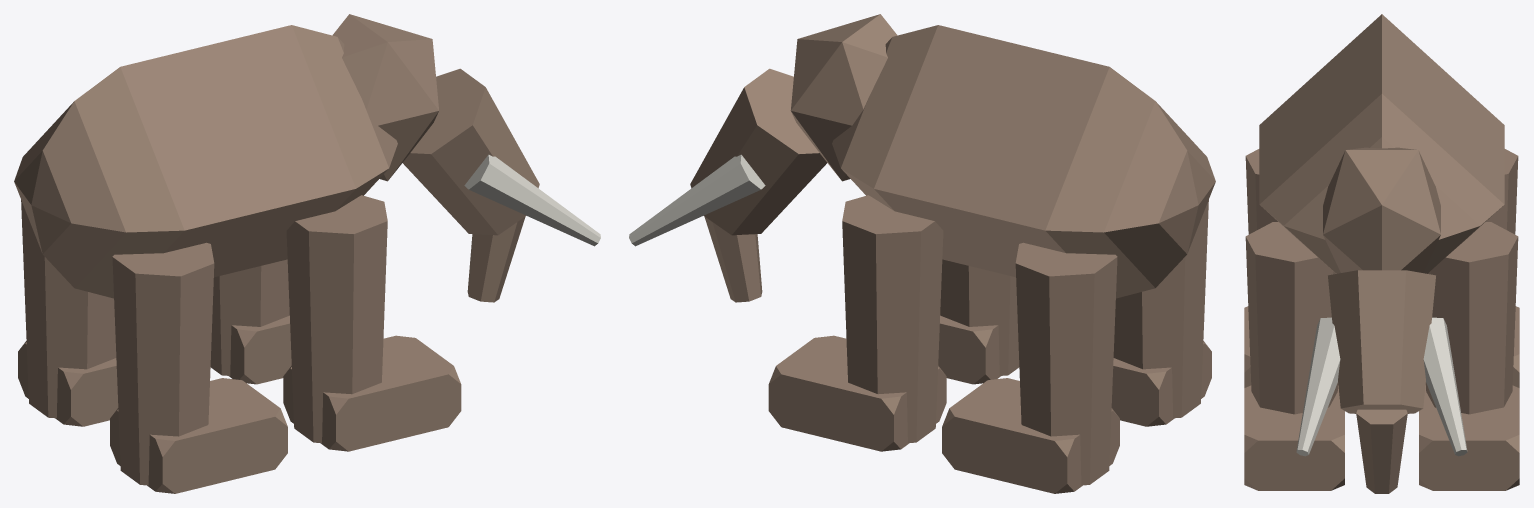
3 views of the same model, side by side, from view 1: azimuth 30°, elevation 25°; view 2: azimuth 150°, elevation 25°; view 3: azimuth 270°, elevation 25° (orthographic). The views are drawn at different scales.
Parts seen in each view (by area): view 1: part0, part12, part8, part2, part9, part13, part10, part1, part6, part5, part11, part7 (+1 smaller); view 2: part0, part10, part6, part2, part7, part11, part12, part1, part8, part4, part13, part9 (+1 smaller); view 3: part0, part2, part1, part6, part8, part7, part9, part3, part4, part5, part10, part12 (+2 smaller).
Boxes of the visible parts, x1,y1,x2,y2 form: part0: (14,25,397,298); part12: (112,242,214,485); part8: (286,195,387,442); part2: (403,68,539,235); part9: (283,335,461,451); part13: (110,378,287,493); part10: (21,200,116,418); part1: (332,14,439,181); part6: (210,259,289,375); part5: (464,154,600,246); part11: (18,341,118,426); part7: (229,315,291,384); part0: (832,25,1215,298); part10: (1015,242,1117,485); part6: (842,195,943,442); part2: (690,68,826,235); part7: (768,335,946,451); part11: (942,378,1119,493); part12: (1113,200,1208,418); part1: (790,14,897,181); part8: (940,259,1019,375); part4: (629,154,765,246); part13: (1111,341,1211,426); part9: (938,315,1000,384); part0: (1259,14,1504,273); part2: (1328,270,1435,413); part1: (1323,147,1440,272); part6: (1426,222,1518,414); part8: (1245,222,1337,414); part7: (1419,385,1519,490); part9: (1244,385,1344,490); part3: (1356,409,1407,493); part4: (1423,317,1467,456); part5: (1296,317,1340,456); part10: (1486,149,1518,234); part12: (1245,149,1277,234).
Size of the model in its own units: 4.38 by 2.94 by 2.08.
